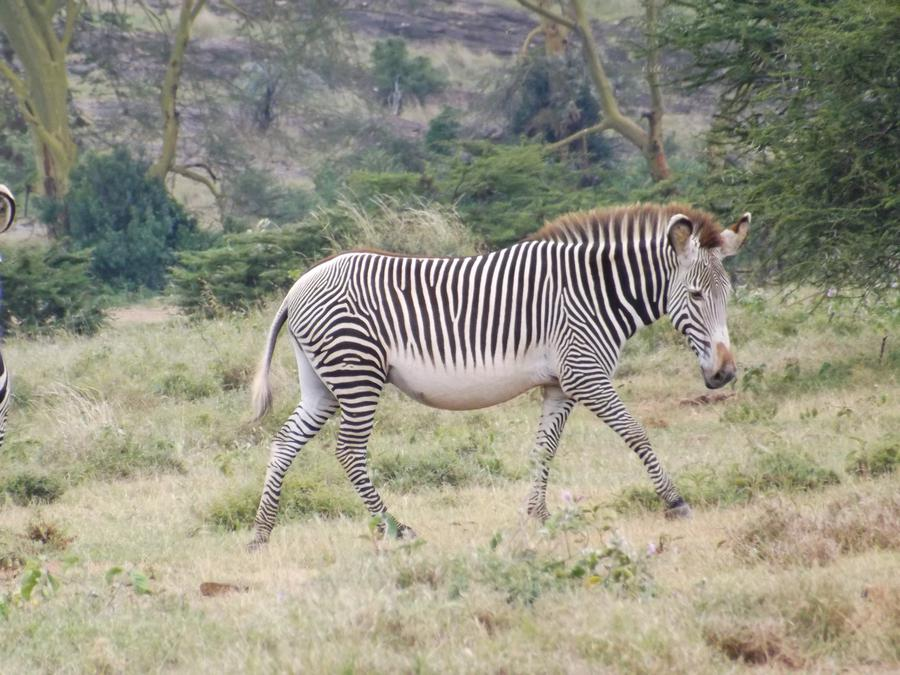zebra_grevys: (279, 258, 615, 381)
